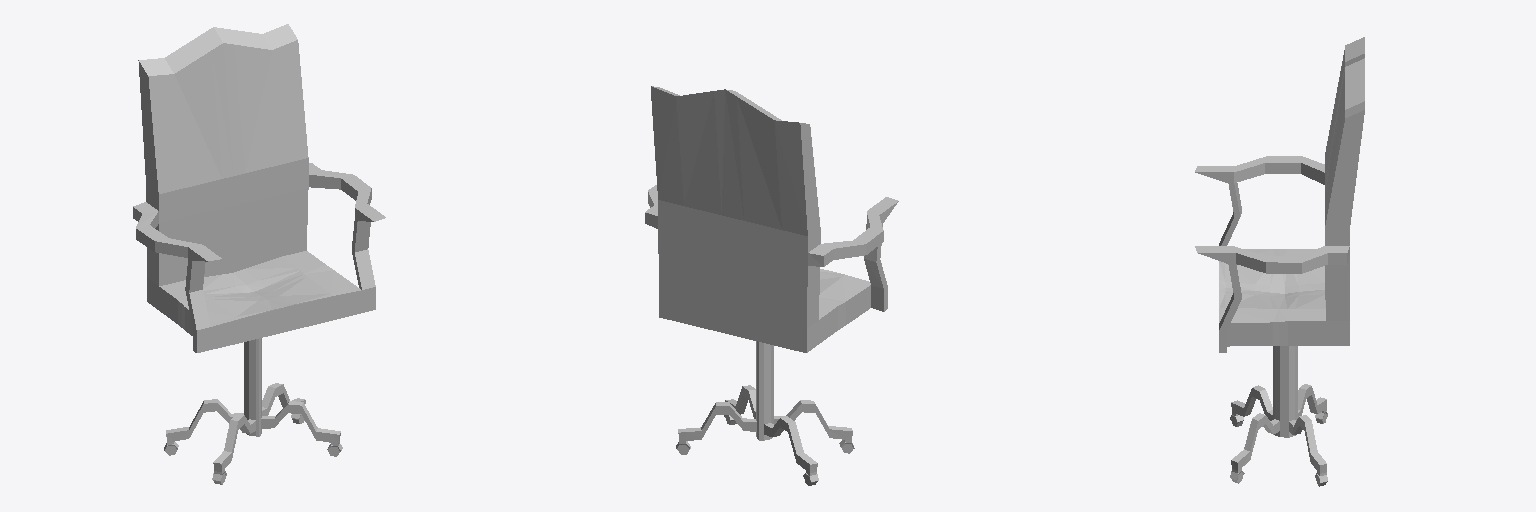
The model's file is chair.obj.
3 views of the same model, side by side, from view 1: azimuth 30°, elevation 25°; view 2: azimuth 150°, elevation 25°; view 3: azimuth 270°, elevation 25° (orthographic).
Parts seen in each view (by area): view 1: pCube14; view 2: pCube14; view 3: pCube14.
Part boxes in pixels (x1,y1,x2,y2): pCube14: (133,24,385,484); pCube14: (645,86,898,485); pCube14: (1195,37,1364,486).
Bounding box in the file's own units: 1.66 × 2.88 × 1.12.